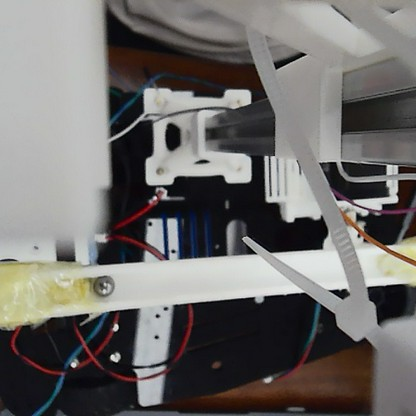ironball: (89, 272, 118, 295)
